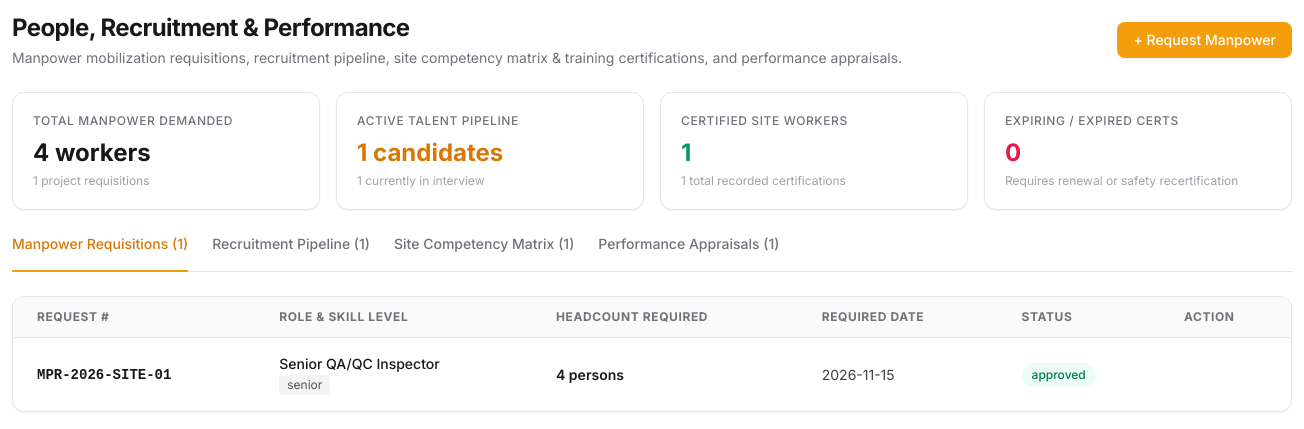
Test: M24: People, Recruitment & Performance Page › switches to Competency tab and displays site certification details
Click the button "Site Competency Matrix (1)". click: (484, 253)
box: x1=394 y1=234 x2=574 y2=272
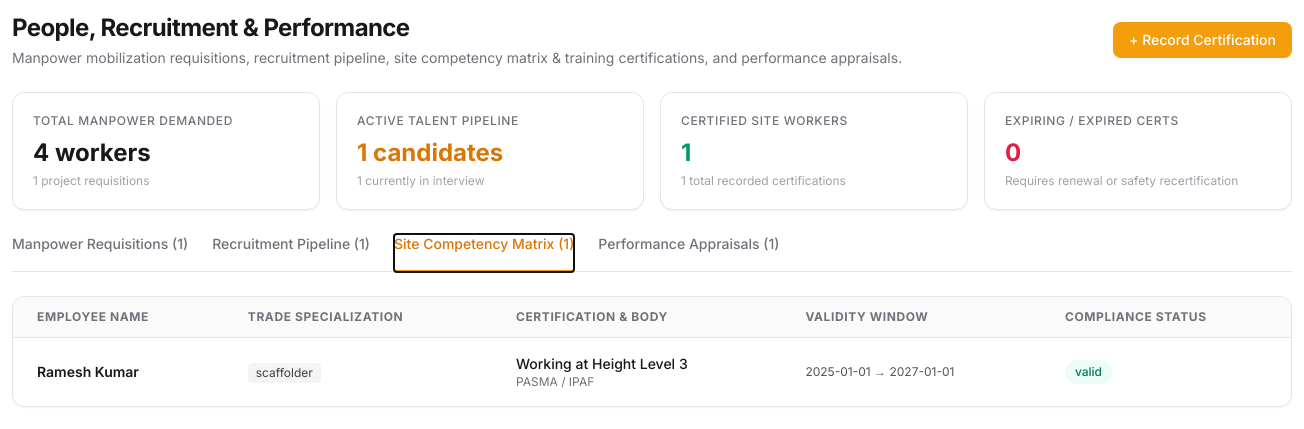
Now the text "Ramesh Kumar" is shown, box x1=13 y1=338 x2=224 y2=406
Now the text "Working at Height Level 3" is shown, box x1=516 y1=355 x2=688 y2=372
Now the text "PASMA / IPAF" is shown, box x1=516 y1=374 x2=594 y2=389
